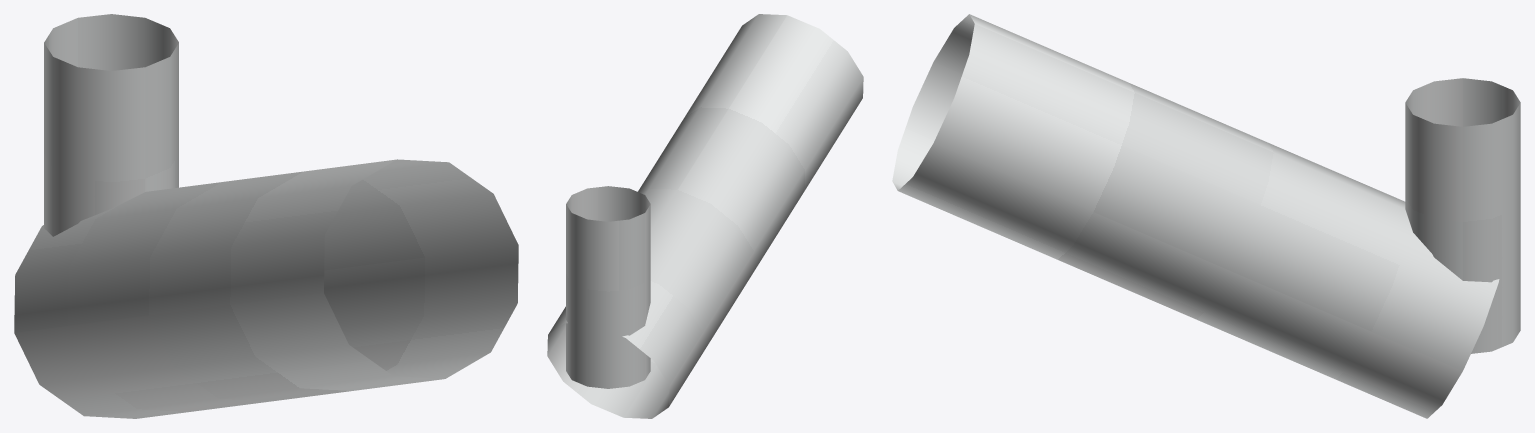
The model's file is luminairearm_truss15ftstraightdouble_c14.obj.
3 views of the same model, side by side, from view 1: azimuth 30°, elevation 25°; view 2: azimuth 150°, elevation 25°; view 3: azimuth 270°, elevation 25° (orthographic). The views are drawn at different scales.
Visible parts, largest first — view 1: luminairearm_truss15ftstraightdouble_c14; view 2: luminairearm_truss15ftstraightdouble_c14; view 3: luminairearm_truss15ftstraightdouble_c14.
Boxes of the visible parts, left/top/right/bottom form: luminairearm_truss15ftstraightdouble_c14: left=14, top=14, right=518, bottom=418; luminairearm_truss15ftstraightdouble_c14: left=547, top=14, right=863, bottom=418; luminairearm_truss15ftstraightdouble_c14: left=892, top=14, right=1520, bottom=418.
Size of the model in its own units: 0.1562 by 0.3454 by 0.5104.
